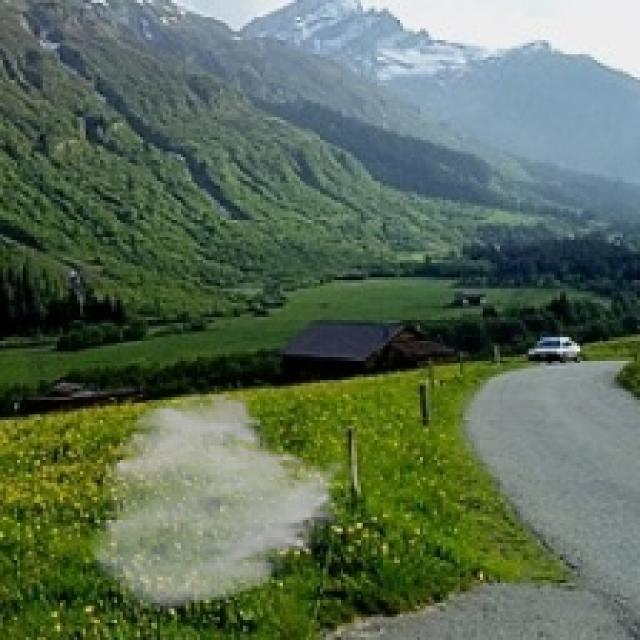smoke: (86, 388, 351, 612)
